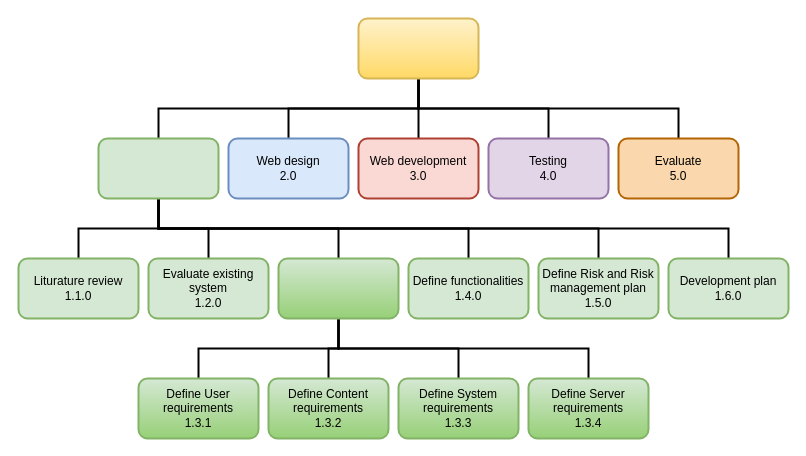
Image size: 806x456. Some labels were removed from this diagram. The shapes that lost their labels are listed below. From the top down, each one's box as (x1, y1, x2, y2) in pixels, then its label:
(357, 17, 479, 79): Smart Agro project
(97, 137, 219, 199): Concept 1.0
(277, 257, 399, 319): Define requirements 1.3.0
